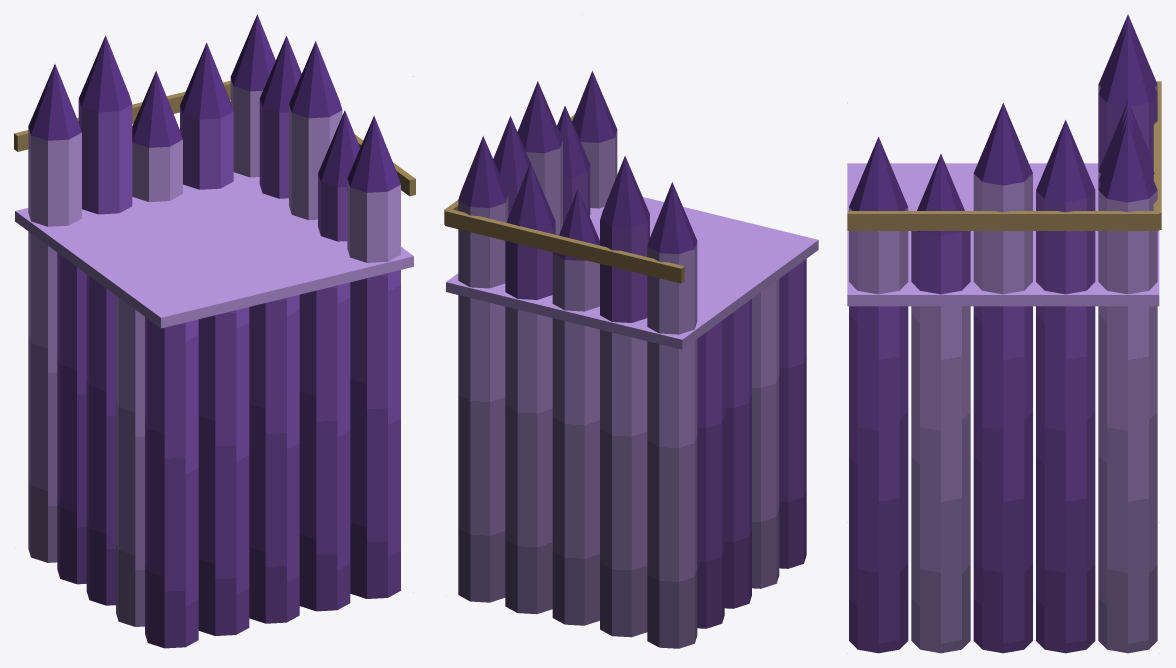
Rendered from perimeter_wall_crystal_f12.glb.
3 views of the same model, side by side, from view 1: azimuth 30°, elevation 25°; view 2: azimuth 150°, elevation 25°; view 3: azimuth 270°, elevation 25° (orthographic). The views are drawn at different scales.
Size of the model in its own units: 2.01 by 3.9 by 2.01.
1 material, 1 textured.
